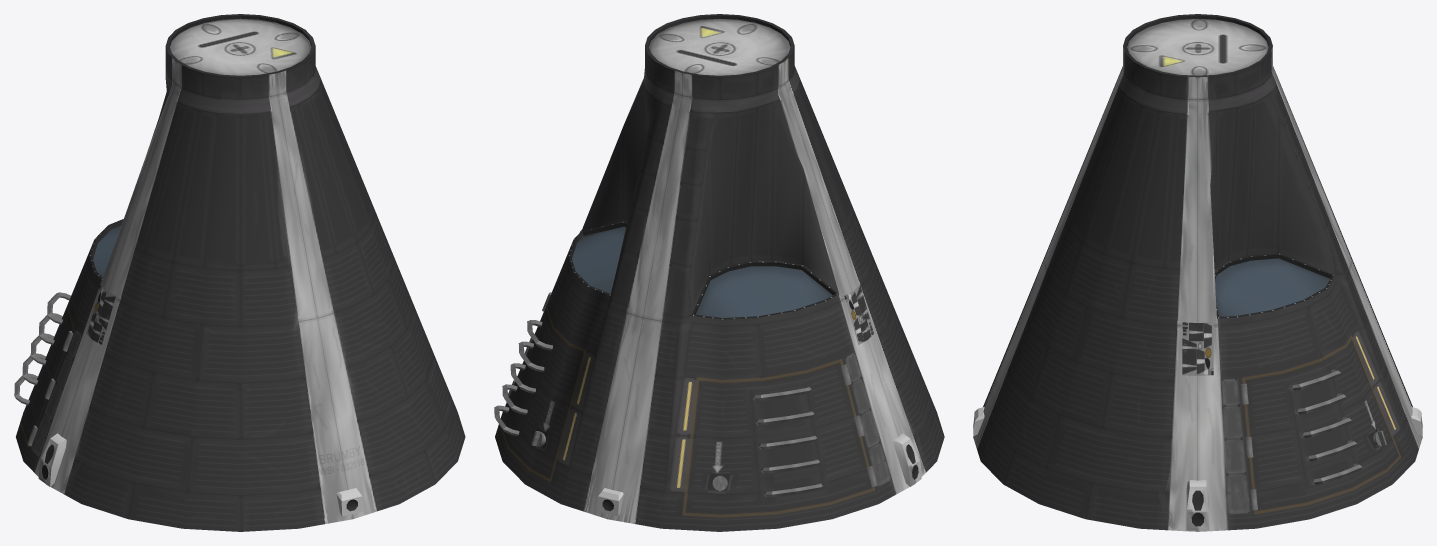
The model's file is Brumby.FBX.
3 renders of one model, left to right at view 1: azimuth 30°, elevation 25°; view 2: azimuth 150°, elevation 25°; view 3: azimuth 270°, elevation 25°, orthographic.
Parts seen in each view (by area): view 1: MainBody, flagTransform, Box125, Windows, Box124; view 2: MainBody, Windows, flagTransform, Box125, Box118; view 3: MainBody, Windows, flagTransform, Box117.
Boxes of the visible parts, bbox=[...] form: MainBody: bbox=[16, 14, 465, 531]; flagTransform: bbox=[86, 284, 115, 344]; Box125: bbox=[38, 433, 66, 486]; Windows: bbox=[93, 225, 121, 277]; Box124: bbox=[336, 488, 362, 516]; MainBody: bbox=[495, 14, 944, 531]; Windows: bbox=[572, 226, 832, 317]; flagTransform: bbox=[579, 230, 873, 344]; Box125: bbox=[893, 433, 921, 486]; Box118: bbox=[597, 488, 623, 516]; MainBody: bbox=[973, 14, 1422, 531]; Windows: bbox=[1215, 258, 1329, 316]; flagTransform: bbox=[1182, 322, 1213, 375]; Box117: bbox=[1186, 480, 1209, 530].
Size of the model in its own units: 1.89 by 1.8 by 1.87.
